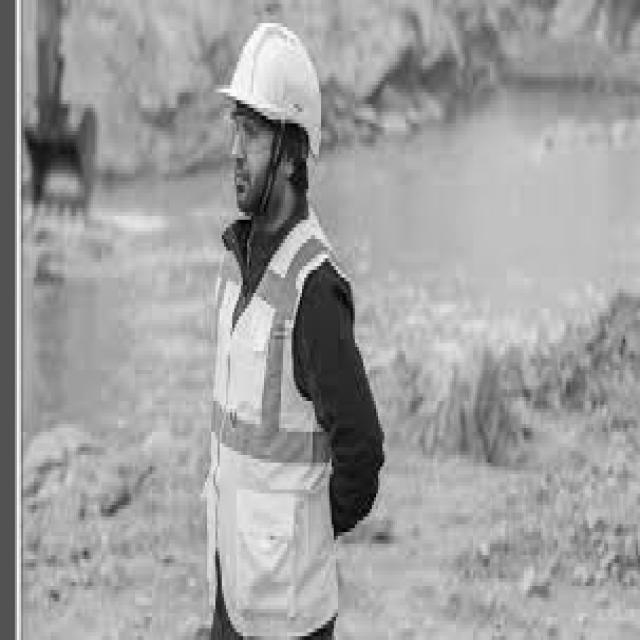safety_helmet: (228, 23, 321, 135)
